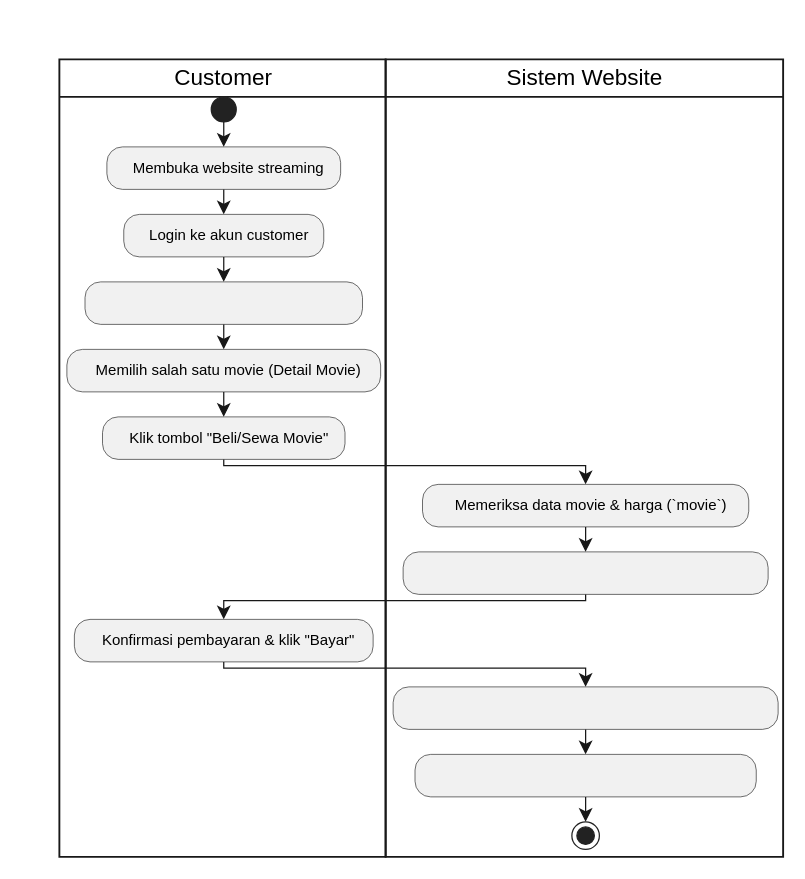
Image size: 805x879. Some labels were removed from this diagram. Here are the shapes that lost their labels. From the top down, the box of each, then its label:
(84, 281, 362, 324): Melihat daftar movie yang tersedia
(402, 551, 768, 594): Menampilkan halaman konfirmasi pembayaran
(392, 686, 778, 729): Menyimpan transaksi ke tabel `customer_movie`
(414, 754, 756, 797): Menampilkan pesan sukses & akses nonton
